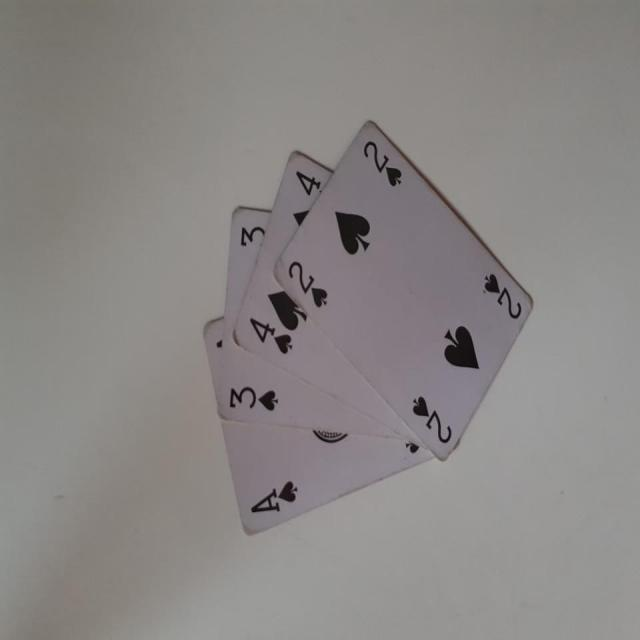2 Spades: (276, 118, 550, 459)
3 Spades: (218, 199, 427, 445)
4 Spades: (241, 148, 397, 428)
A Spades: (208, 430, 431, 540)
